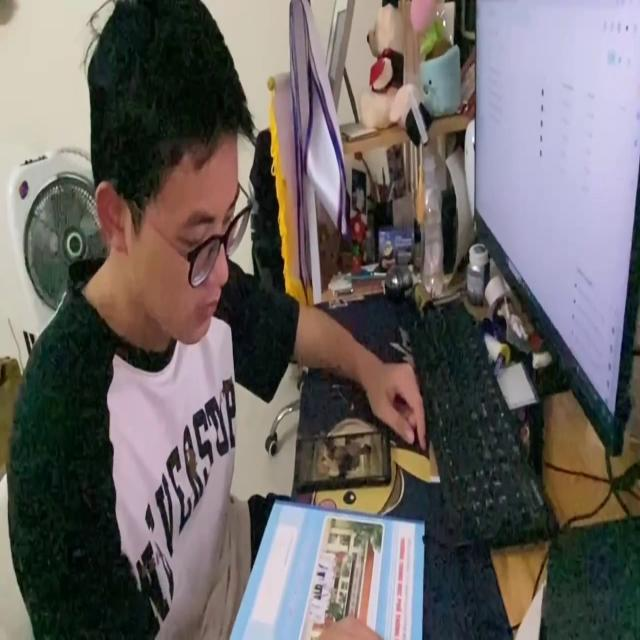book: (223, 498, 427, 640)
laptop: (471, 0, 640, 464)
phone: (295, 426, 393, 488)
student: (8, 0, 428, 640)
